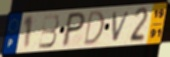1: (22, 14, 34, 52)
2: (128, 6, 149, 45)
B: (38, 13, 60, 50)
D: (82, 10, 106, 48)
P: (60, 11, 88, 49)
V: (111, 9, 132, 43)
